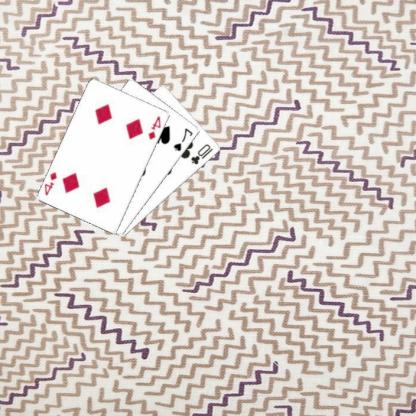10C: (190, 141, 216, 166)
4D: (44, 169, 60, 197), (148, 114, 164, 140)
7S: (173, 126, 196, 152)
